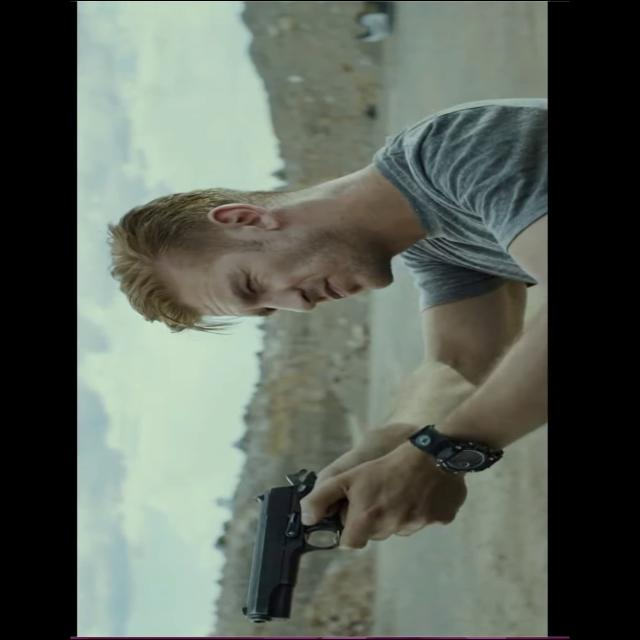weapons: (227, 464, 391, 628)
